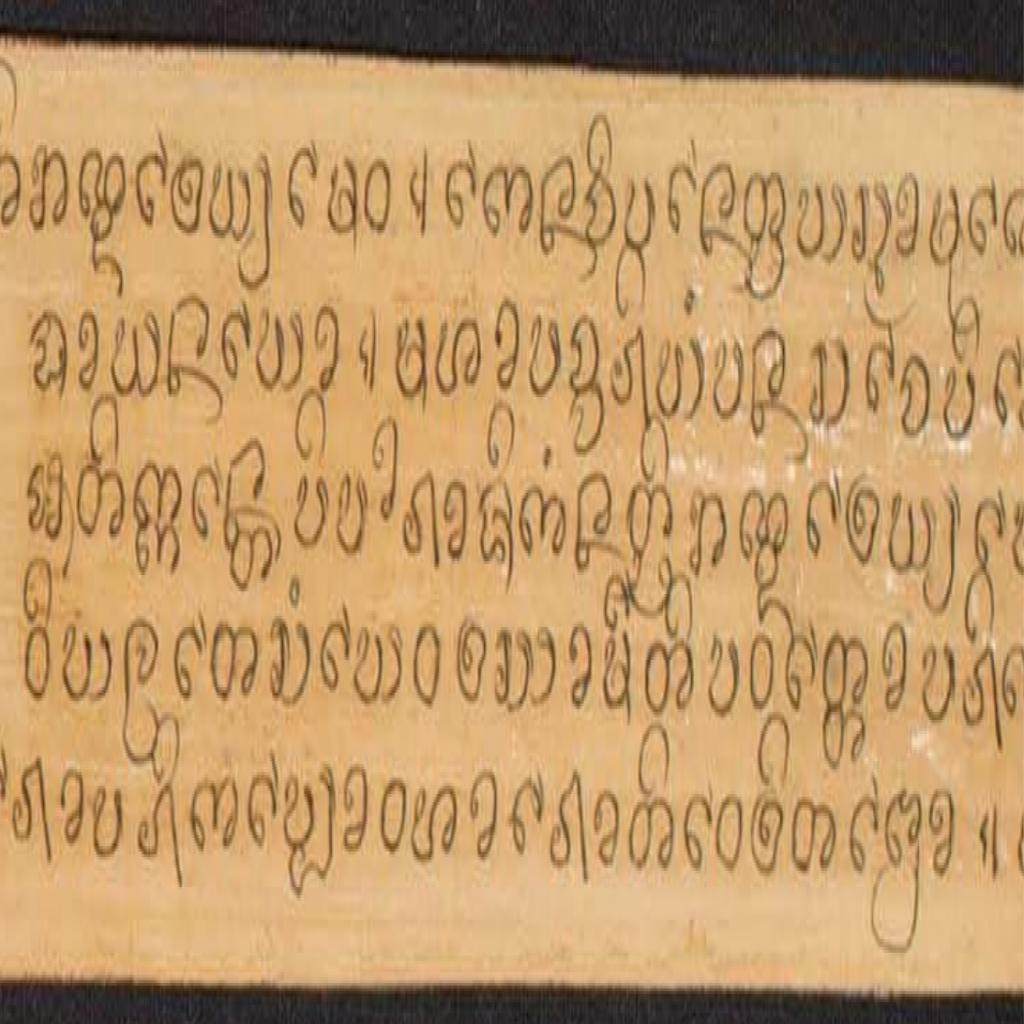LN032: (886, 481, 936, 583)
